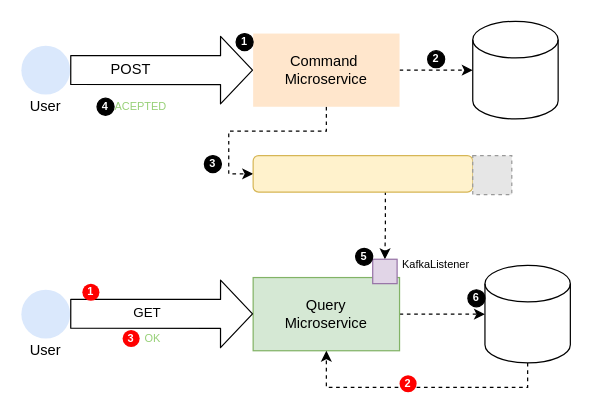
This 592x418 diagram has some shape labels left out. Grey dashed boxes stand in for pictures. Here are the shapes that lost their labels. From the top down, the centre of each, then its label:
point (515, 69): command H2
point (362, 173): Apache Kafka Topic
point (527, 313): query H2
